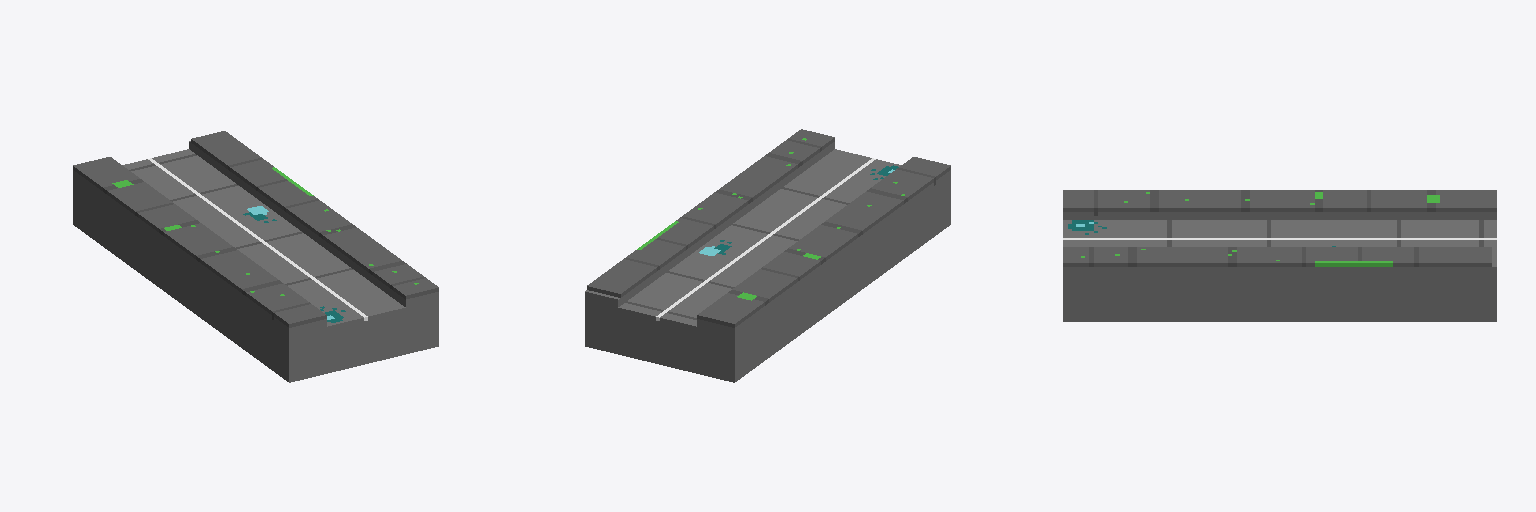
3 views of the same model, side by side, from view 1: azimuth 30°, elevation 25°; view 2: azimuth 150°, elevation 25°; view 3: azimuth 270°, elevation 25° (orthographic).
Visible parts, largest first — view 1: object 1; view 2: object 1; view 3: object 1.
Boxes of the visible parts, x1=… form: object 1: x1=73, y1=131, x2=438, y2=382; object 1: x1=585, y1=129, x2=950, y2=382; object 1: x1=1063, y1=190, x2=1496, y2=321.
Size of the model in its own units: 4 by 1.5 by 10.
1 materials, 1 textured.